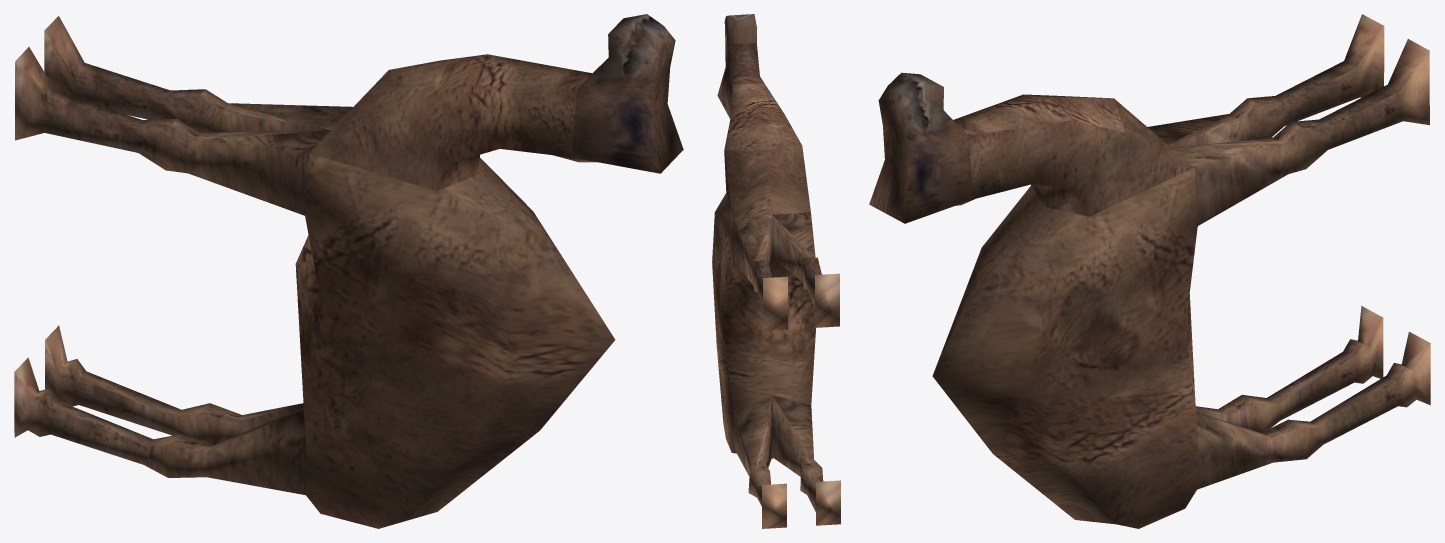
Rendered from camel_55.fbx.
3 renders of one model, left to right at view 1: azimuth 30°, elevation 25°; view 2: azimuth 150°, elevation 25°; view 3: azimuth 270°, elevation 25°, orthographic. The views are drawn at different scales.
Parts seen in each view (by area): view 1: camel_55; view 2: camel_55; view 3: camel_55.
Boxes of the visible parts, x1,y1,x2,y2 form: camel_55: (14, 14, 683, 528); camel_55: (712, 14, 840, 528); camel_55: (869, 14, 1430, 528).
Size of the model in its own units: 40.68 by 48.84 by 49.13.
